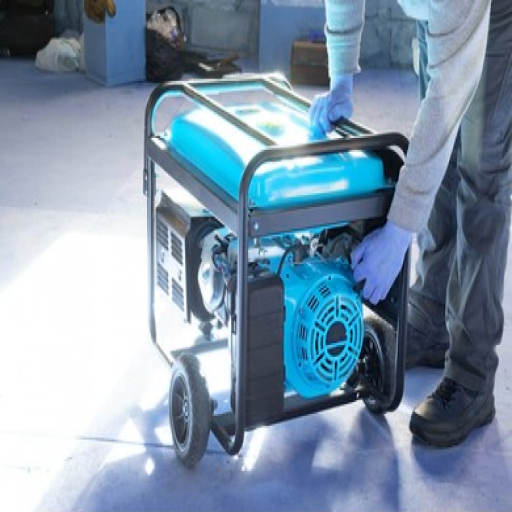portable_generator: (143, 71, 412, 455)
